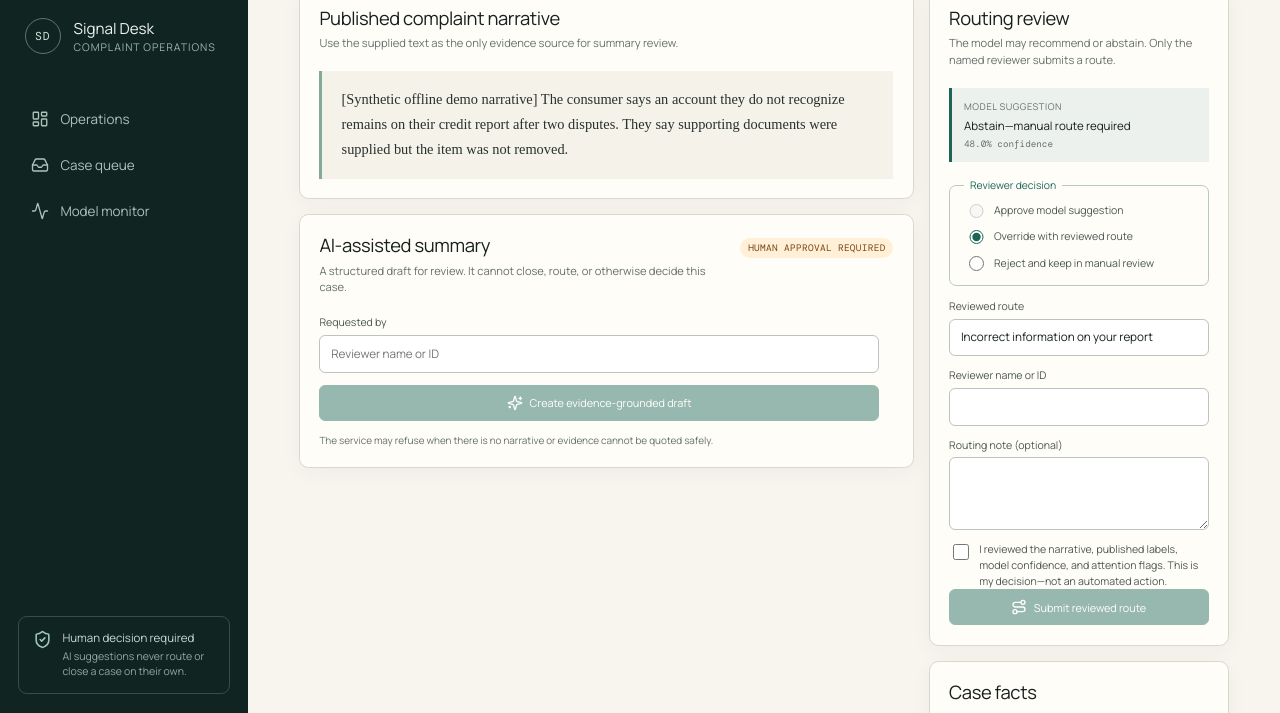
Test: complaint operations UI › requires explicit evidence review and keeps summary approval separate from routing
(page scrolled)
Expected: the element "AI-assisted summary" is shown, [299,214,914,468]
In the field labelled "Requested by": (599, 354) [319,335,879,373], type "analyst-1"
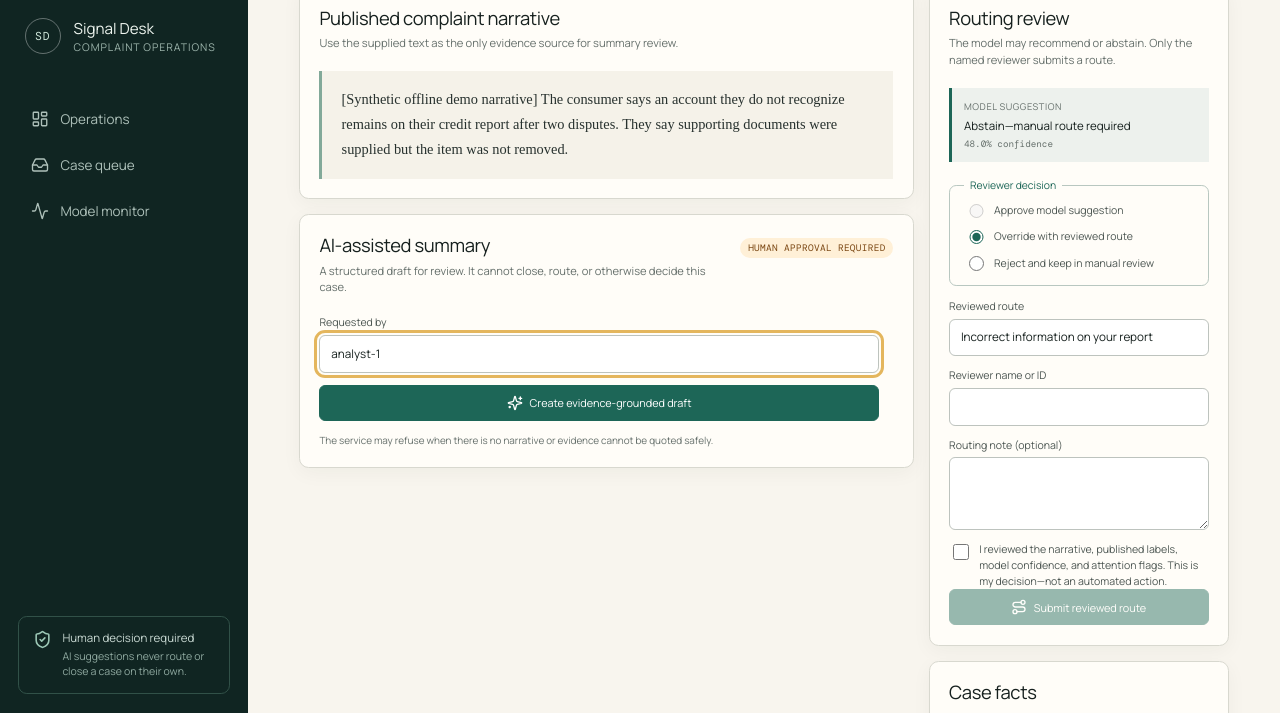
Click the button "Create evidence-grounded draft": (599, 403) [319,385,879,421]
(page scrolled)
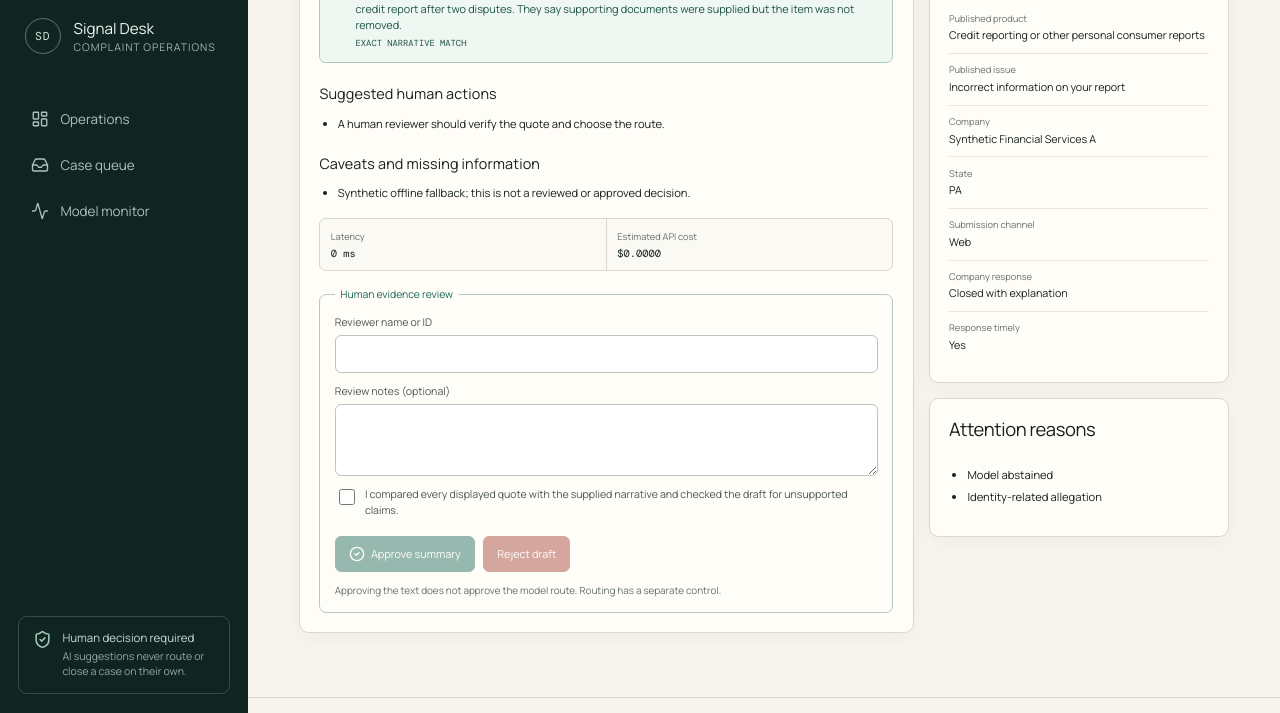
Now the button "Approve summary" is disabled, box [335,536,475,572]
Now the text "Approving the text does not approve the model route" is shown, box [335,583,721,597]
In the field labelled "Reviewer name or ID": (606, 354) [335,335,878,373], type "reviewer-2"
Click the checkbox labelled "I compared every displayed quote": (347, 497) [339,489,355,505]
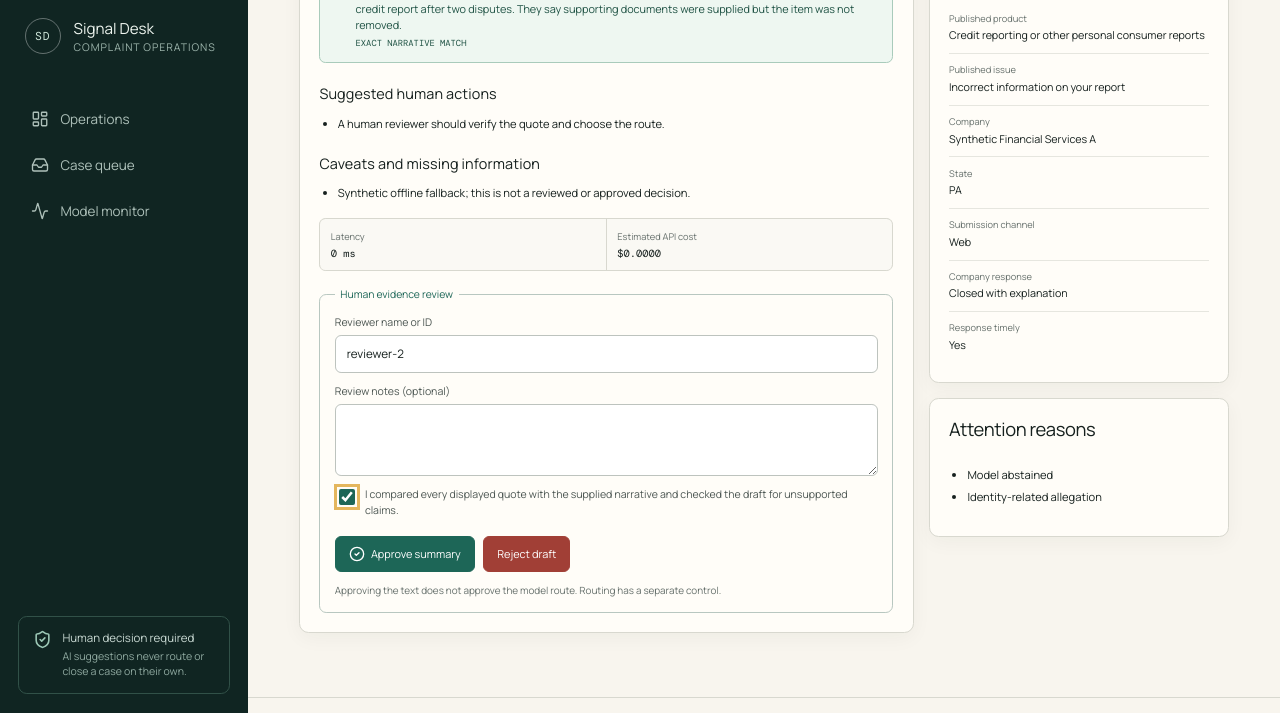
Now the button "Approve summary" is enabled
Click the button "Approve summary": (405, 554) [335,536,475,572]
(page scrolled)
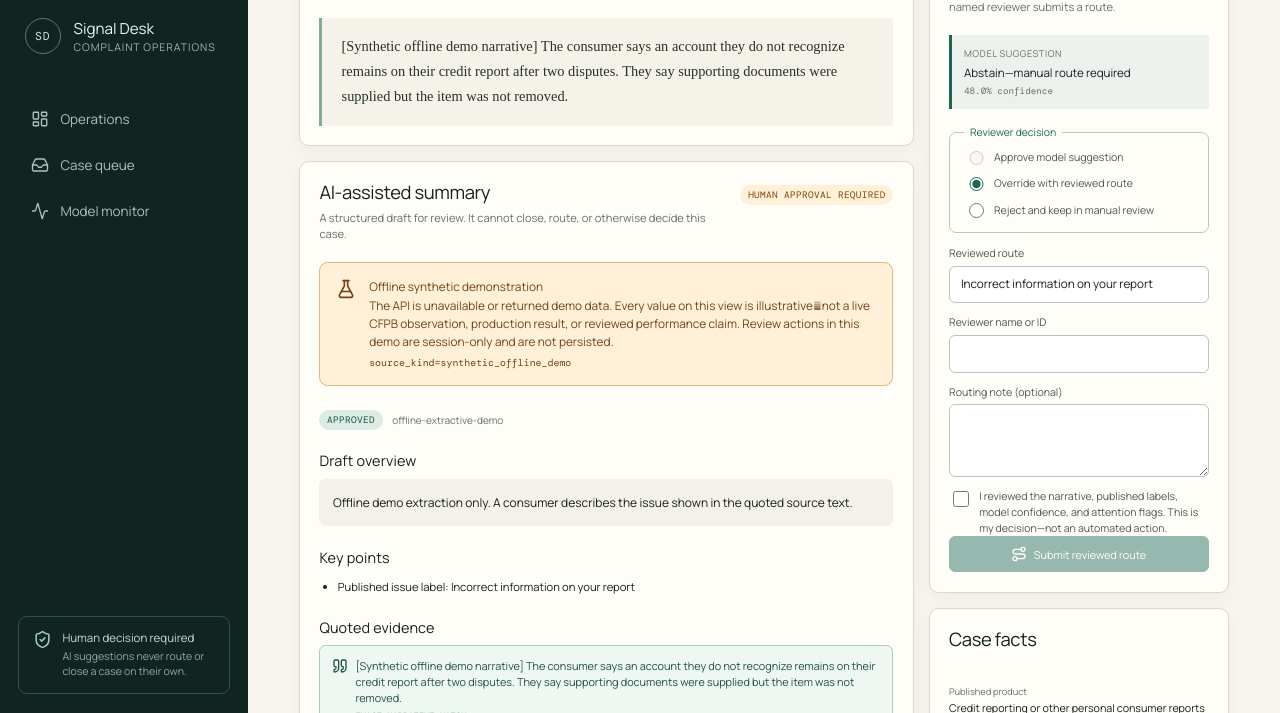
In the field labelled "Reviewer name or ID": (1079, 354) [949,335,1209,373], type "reviewer-2"
Click the checkbox named "This is my decision—not an automated action": (961, 498) [953,490,969,506]
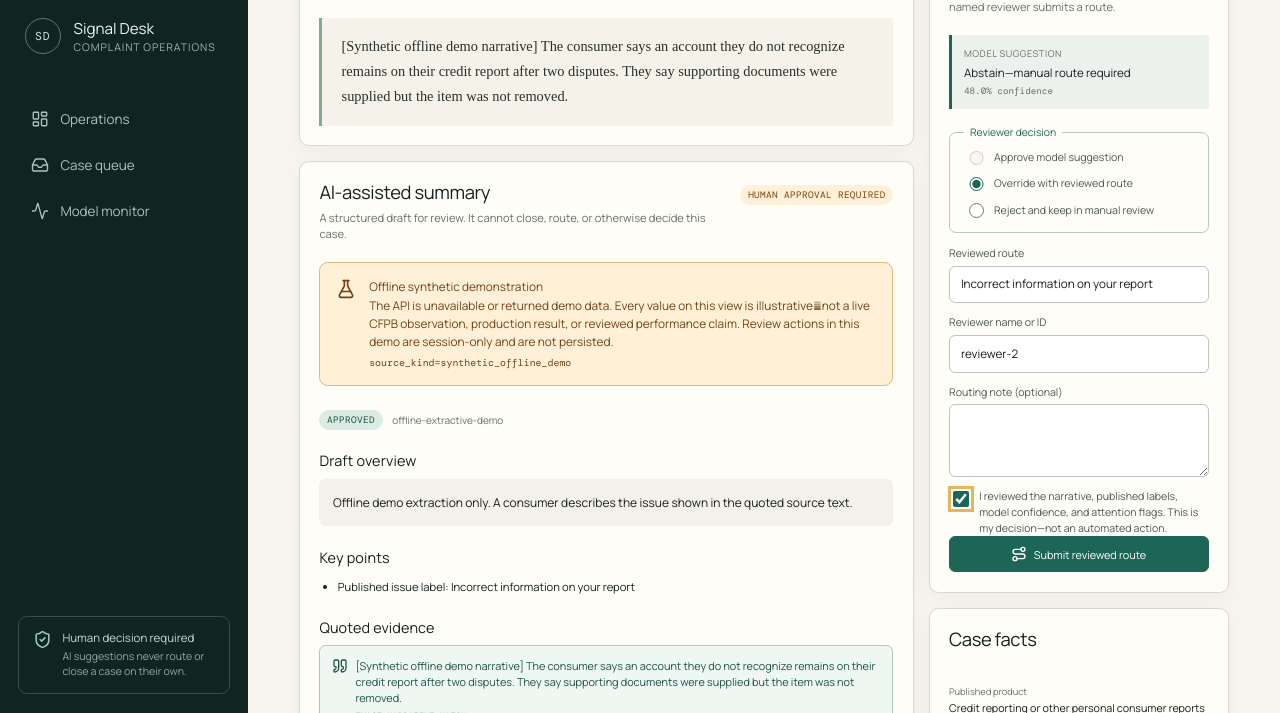
Click the button "Submit reviewed route": (1079, 554) [949,536,1209,572]
(page scrolled)
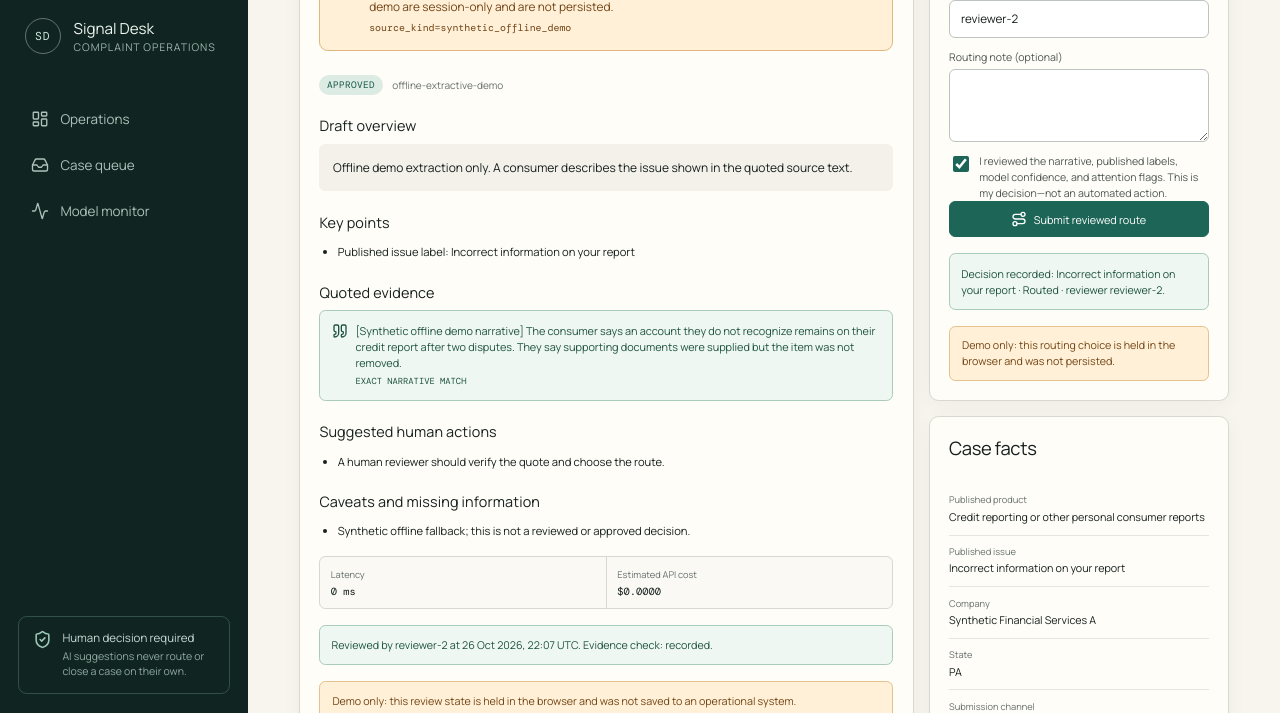
Now the text "Decision recorded" is shown, box [961,267,1056,281]
Now the text "Demo only: this routing choice is held in the browser and was not persisted." is shown, box [949,326,1209,381]
